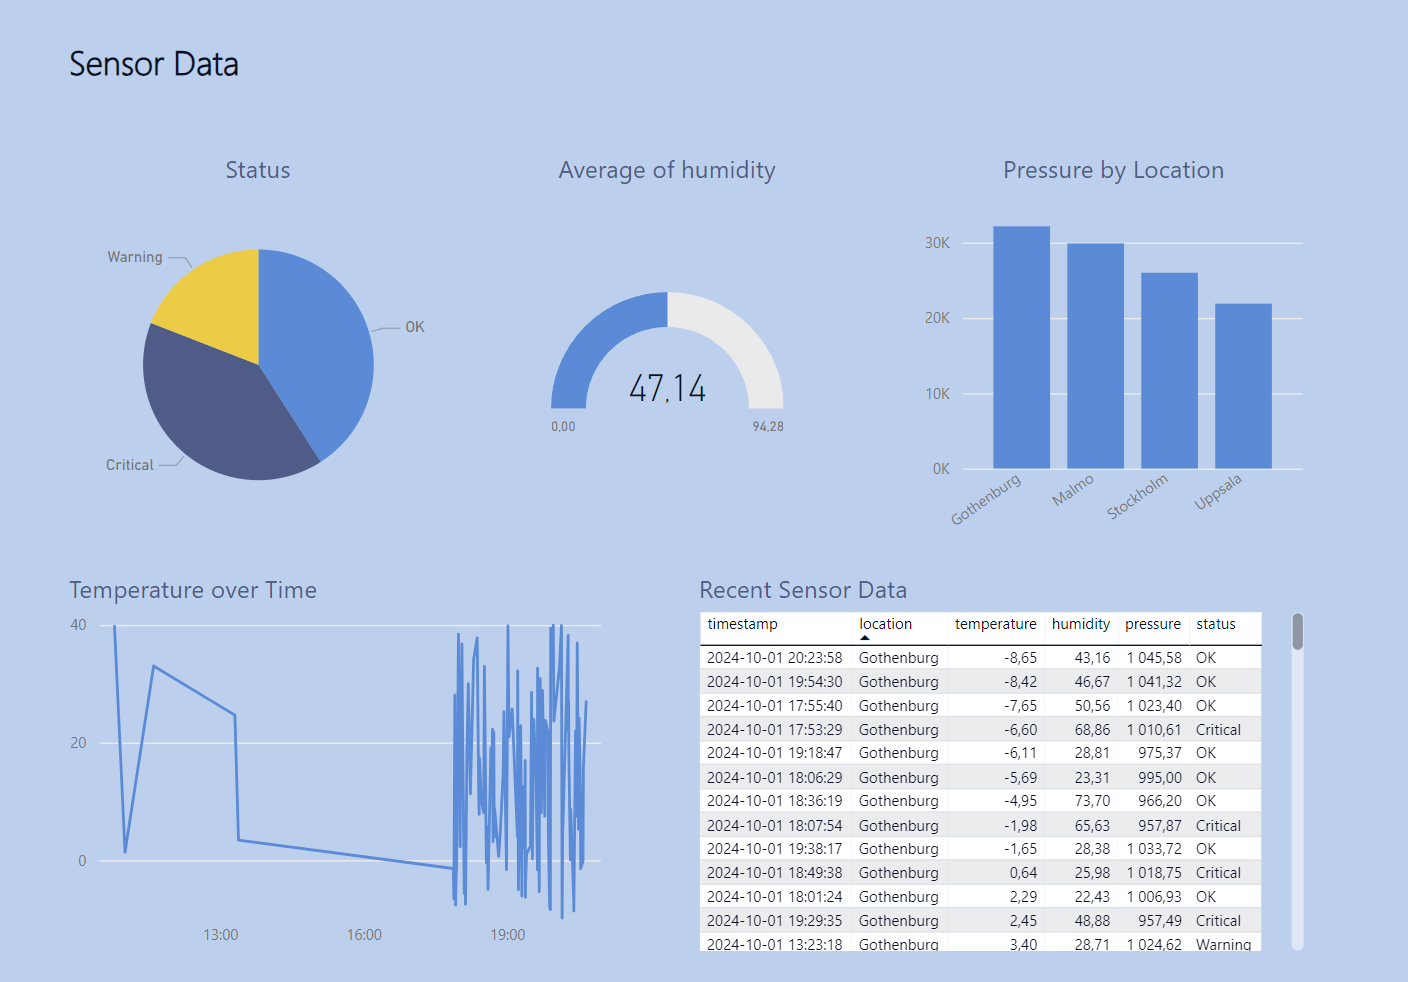

The dashboard page shown, as its layout file describes it:
{"tool":"powerbi","page":{"name":"SensorData","canvas":[1280,720],"ordinal":0},"visuals":[{"type":"lineChart","title":"Temperature over Time","fields":{"Y":["Avg(SensorData (2).temperature)"],"Category":["SensorData (2).timestamp"]},"box":[68.4,424.3,390.6,274.5],"z":0},{"type":"gauge","fields":{"Y":["Avg(SensorData (2).humidity)"]},"box":[411.2,125.9,175.8,278.9],"z":1000},{"type":"columnChart","title":"Pressure by Location","fields":{"Category":["SensorData (2).location"],"Y":["Sum(SensorData (2).pressure)"]},"box":[677.1,125.9,279.9,278.9],"z":2000},{"type":"pieChart","title":"Status","fields":{"Category":["SensorData (2).status"],"Y":["CountNonNull(SensorData (2).status)"]},"box":[68.4,125.9,278.9,278.9],"z":3000},{"type":"tableEx","title":"Recent Sensor Data","fields":{"Values":["SensorData (2).timestamp","SensorData (2).location","SensorData (2).temperature","SensorData (2).humidity","SensorData (2).pressure","SensorData (2).status"]},"box":[516.5,424.3,440.5,274.5],"z":4000},{"type":"textbox","box":[68.4,39.1,191,42.3],"z":4001}]}

Visuals, with their boxes on the page's 1280x720 design canvas (x1, y1, x2, y2). These are canvas units, not pixel positions in the 1408x982 screenshot, which may show the page scaled, cropped or inside an application window:
"Temperature over Time" lineChart: locate(68, 424, 459, 699)
gauge - Avg(SensorData (2).humidity): locate(411, 126, 587, 405)
"Pressure by Location" columnChart: locate(677, 126, 957, 405)
"Status" pieChart: locate(68, 126, 347, 405)
"Recent Sensor Data" tableEx: locate(516, 424, 957, 699)
textbox: locate(68, 39, 259, 81)
